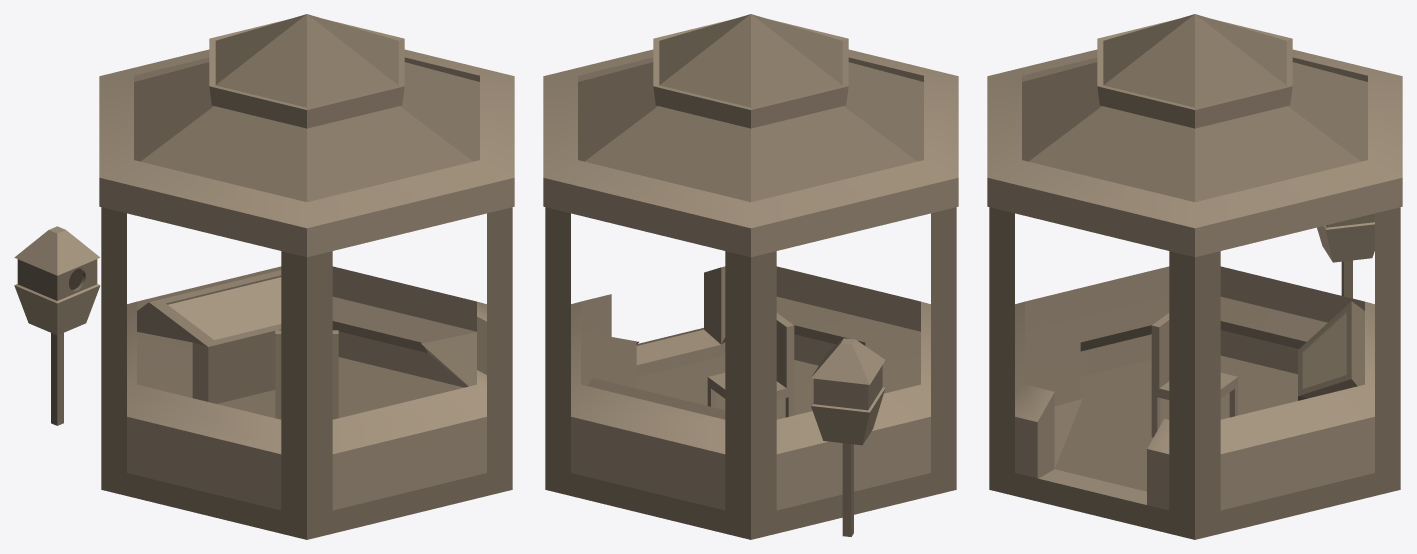
The model's file is Gazebo_with_Chair_and_Bird_Box.fbx.
3 renders of one model, left to right at view 1: azimuth 30°, elevation 25°; view 2: azimuth 150°, elevation 25°; view 3: azimuth 270°, elevation 25°, orthographic.
Visible parts, largest first — view 1: pCube2, pCone1, pCylinder2, pasted__pCylinder3, pCube6, pCube9; view 2: pCube2, pCone1, pCylinder2, pasted__pCylinder3, pCube6, pCube9; view 3: pCube2, pCone1, pCylinder2, pasted__pCylinder3, pCube6, pCube9.
Part boxes in pixels (x1=…): pCube2: x1=127, y1=266, x2=486, y2=510; pCone1: x1=134, y1=14, x2=479, y2=201; pCylinder2: x1=101, y1=207, x2=512, y2=539; pasted__pCylinder3: x1=99, y1=49, x2=514, y2=257; pCube6: x1=14, y1=226, x2=100, y2=425; pCube9: x1=275, y1=330, x2=338, y2=419; pCube2: x1=571, y1=266, x2=930, y2=510; pCone1: x1=578, y1=14, x2=923, y2=201; pCylinder2: x1=545, y1=207, x2=956, y2=539; pasted__pCylinder3: x1=543, y1=49, x2=958, y2=257; pCube6: x1=811, y1=338, x2=885, y2=536; pCube9: x1=707, y1=313, x2=794, y2=417; pCube2: x1=1015, y1=266, x2=1374, y2=510; pCone1: x1=1022, y1=14, x2=1367, y2=201; pCylinder2: x1=989, y1=207, x2=1400, y2=539; pasted__pCylinder3: x1=987, y1=49, x2=1402, y2=257; pCube6: x1=1317, y1=213, x2=1374, y2=298; pCube9: x1=1151, y1=313, x2=1238, y2=437.
Size of the model in its own units: 15.16 by 14.84 by 13.13.
